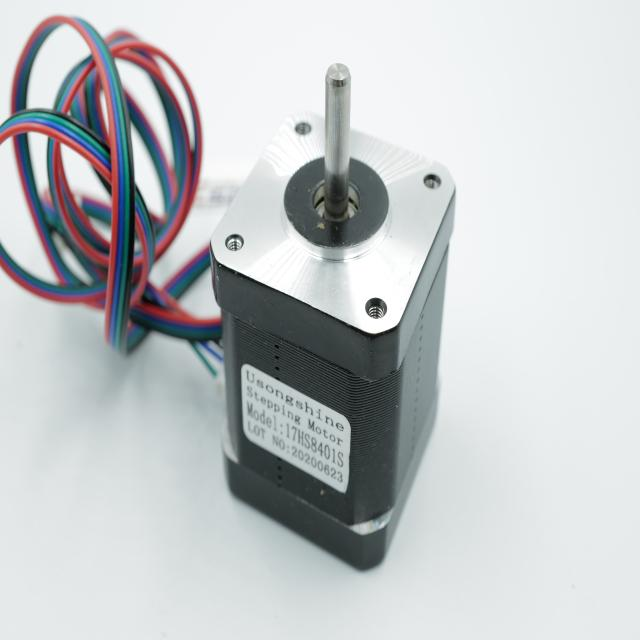motor: (209, 64, 458, 575)
